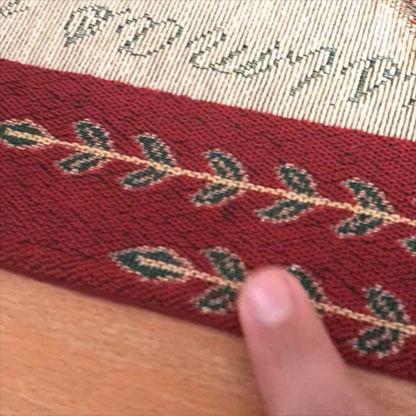fingertip: (225, 256, 336, 345)
